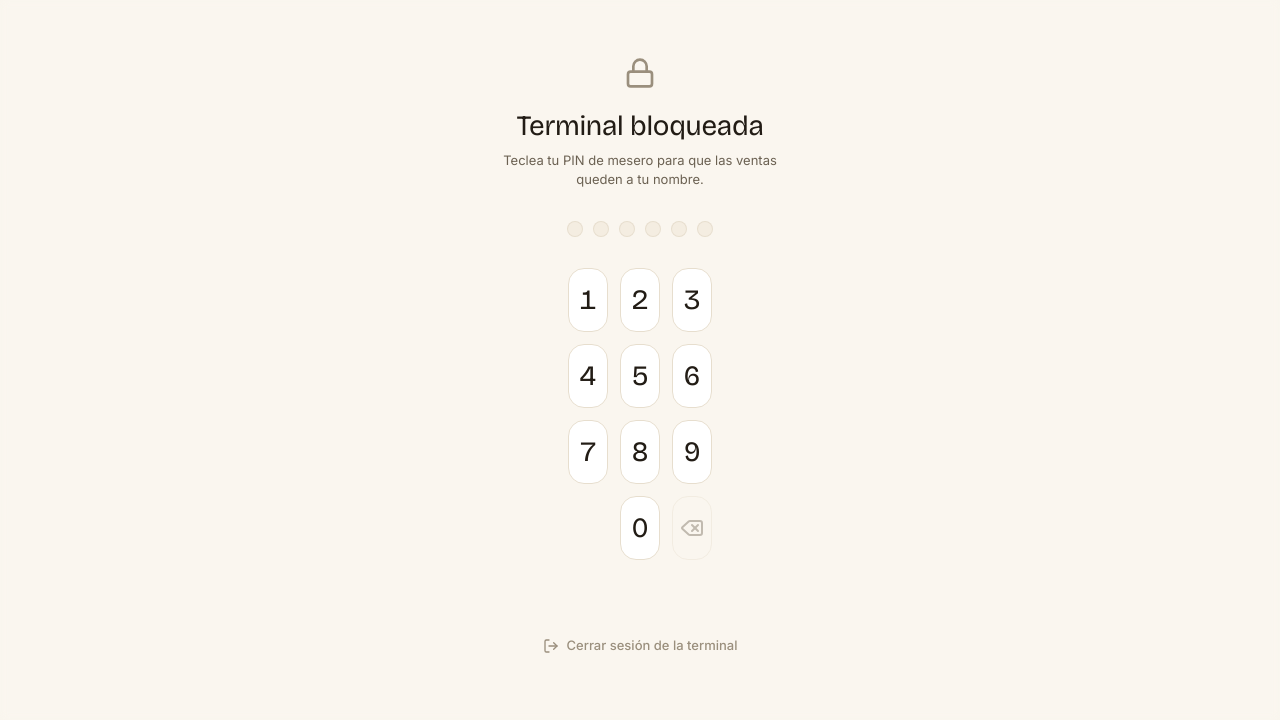
Test: BloqueoTerminal › un PIN inválido muestra el mensaje del backend y no deja mesero activo
This screenshot has width=1280, height=720.
What coordinates should you click on to do the following:
click the button "1"
I would click on:
 (588, 300)
Its box is [568, 268, 608, 332].
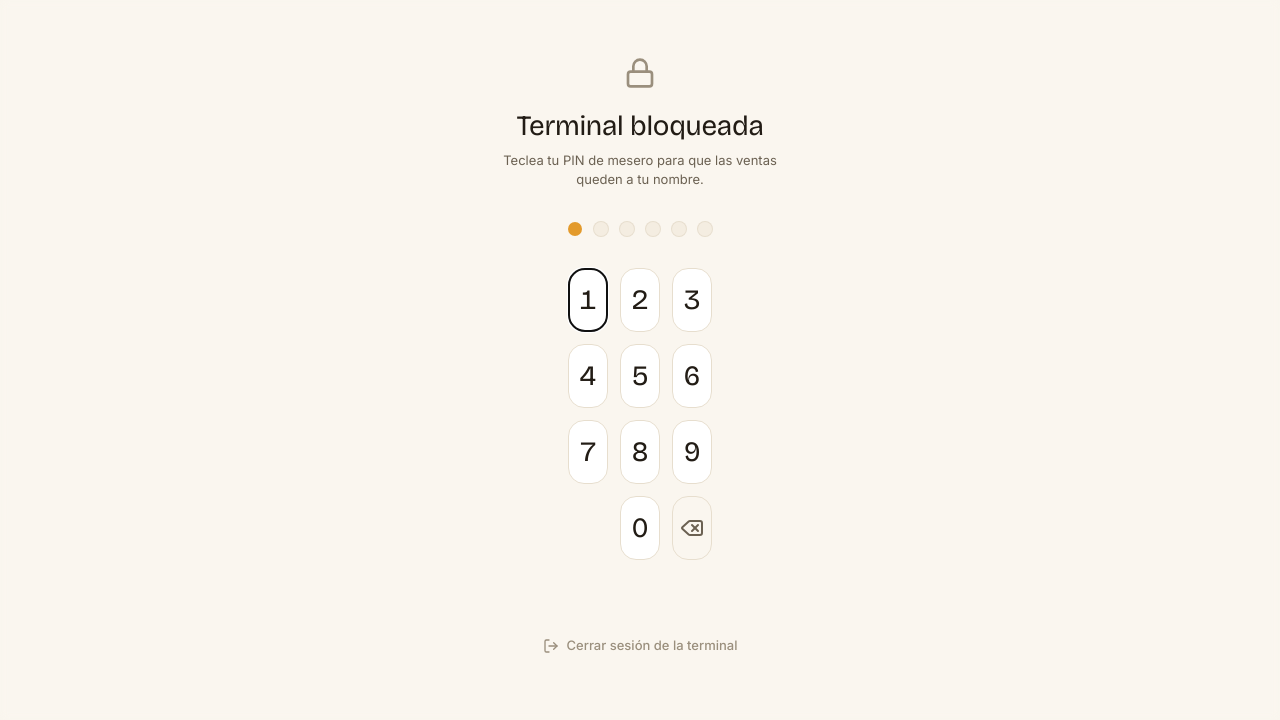
What coordinates should you click on to do the following:
click the button "1"
I would click on:
 (588, 300)
Its box is [568, 268, 608, 332].
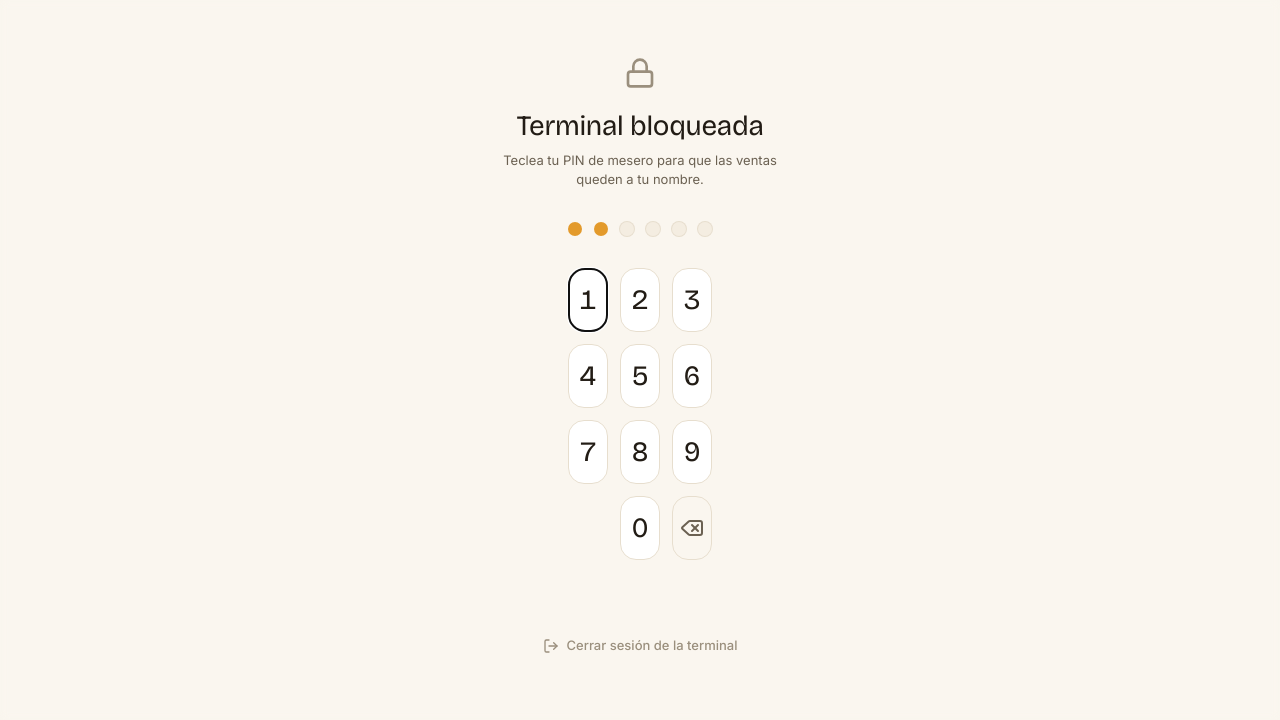
What coordinates should you click on to do the following:
click the button "1"
I would click on:
 (588, 300)
Its box is [568, 268, 608, 332].
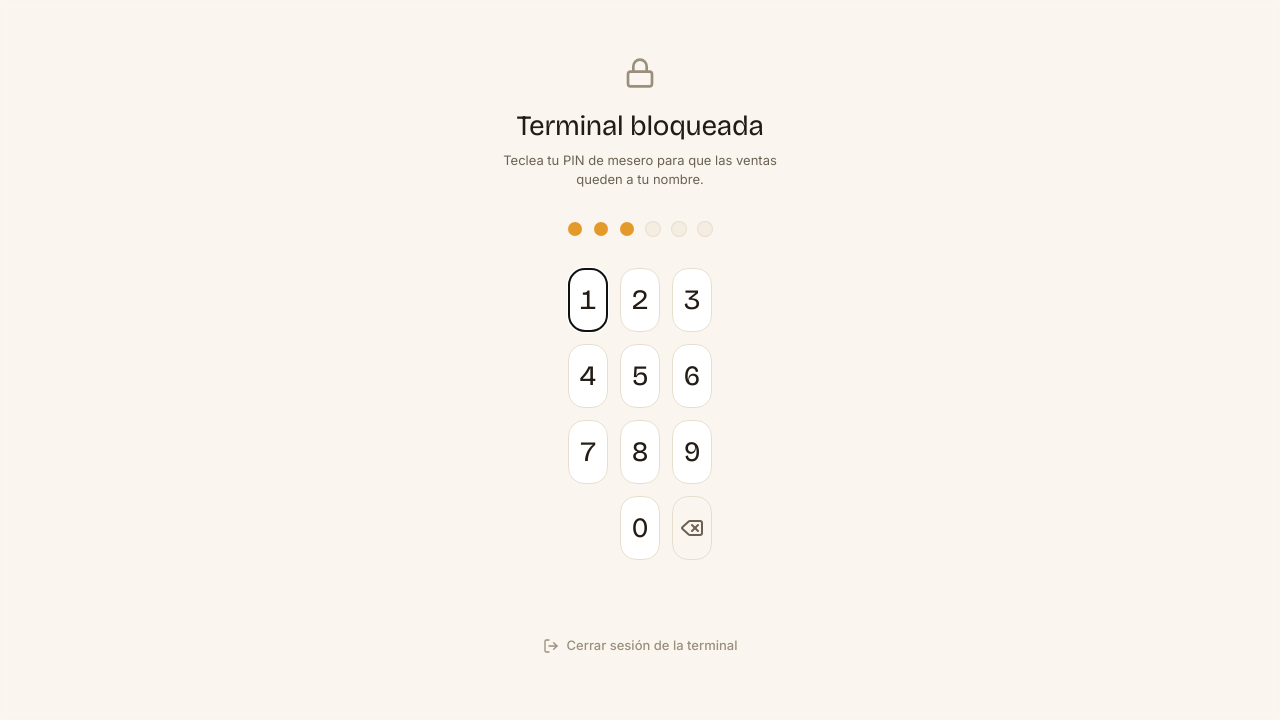
What coordinates should you click on to do the following:
click the button "1"
I would click on:
 (588, 300)
Its box is [568, 268, 608, 332].
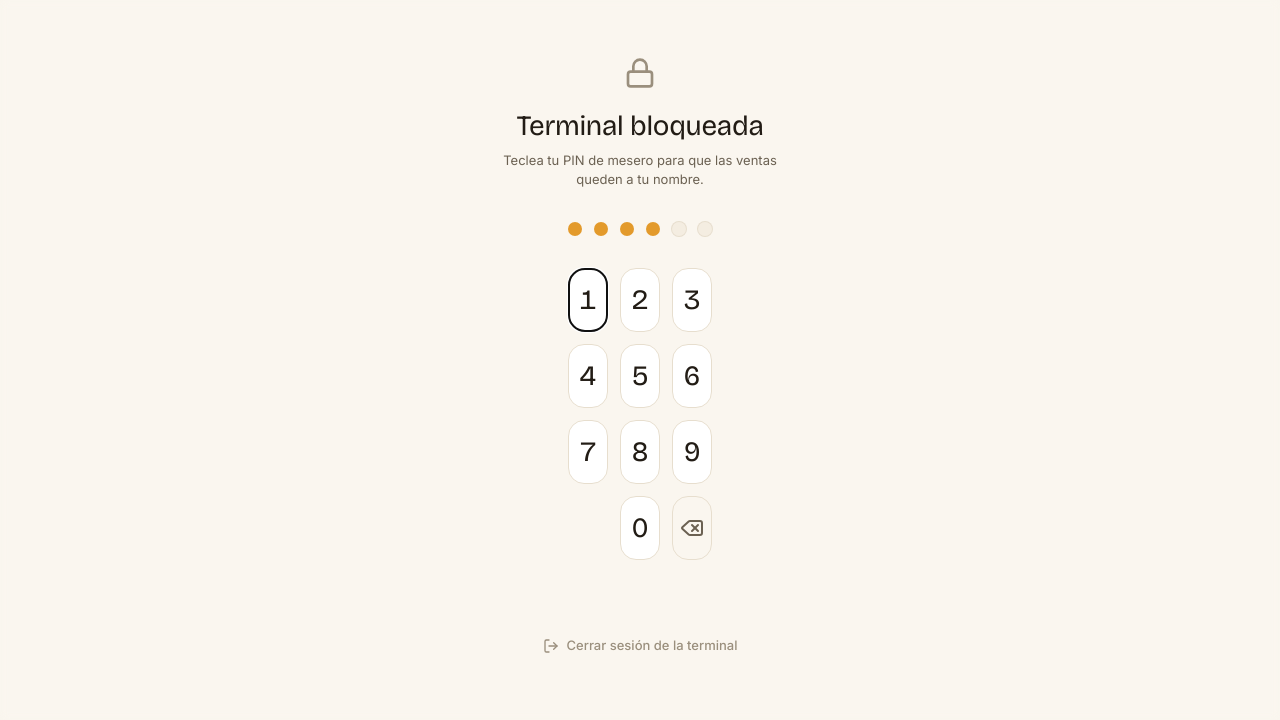
What coordinates should you click on to do the following:
click the button "1"
I would click on:
 (588, 300)
Its box is [568, 268, 608, 332].
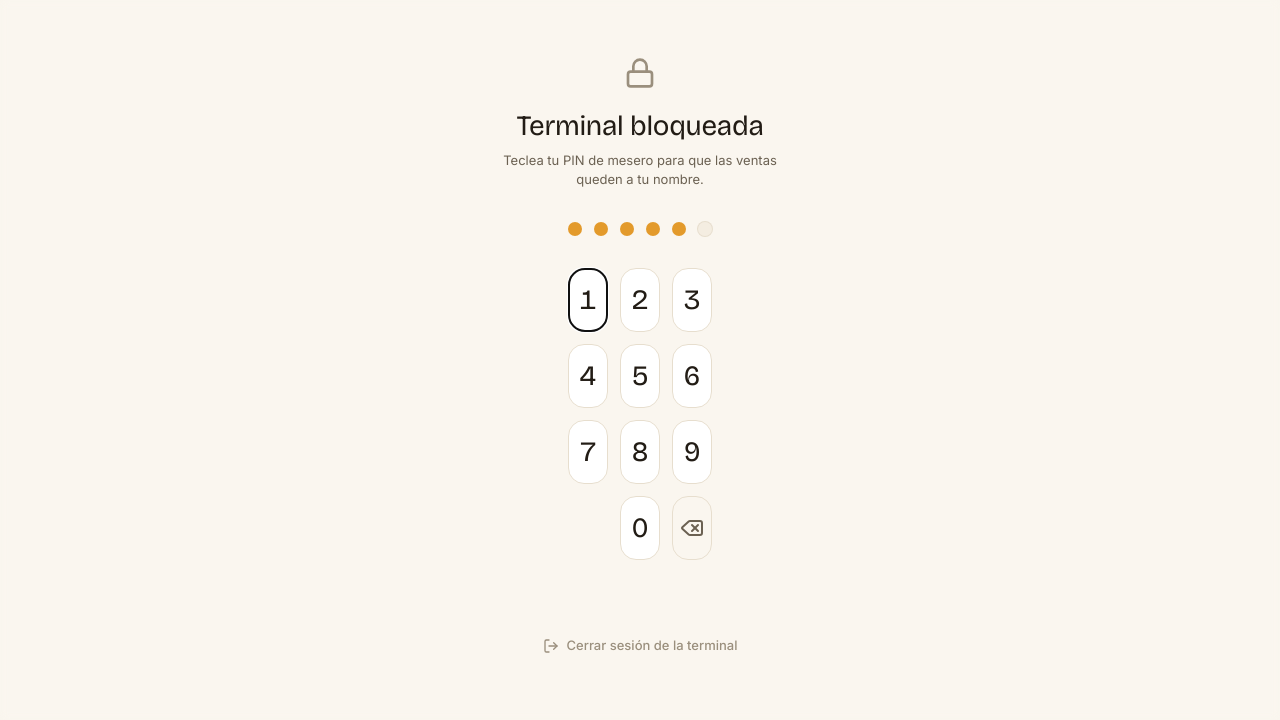
What coordinates should you click on to do the following:
click the button "1"
I would click on:
 (588, 300)
Its box is [568, 268, 608, 332].
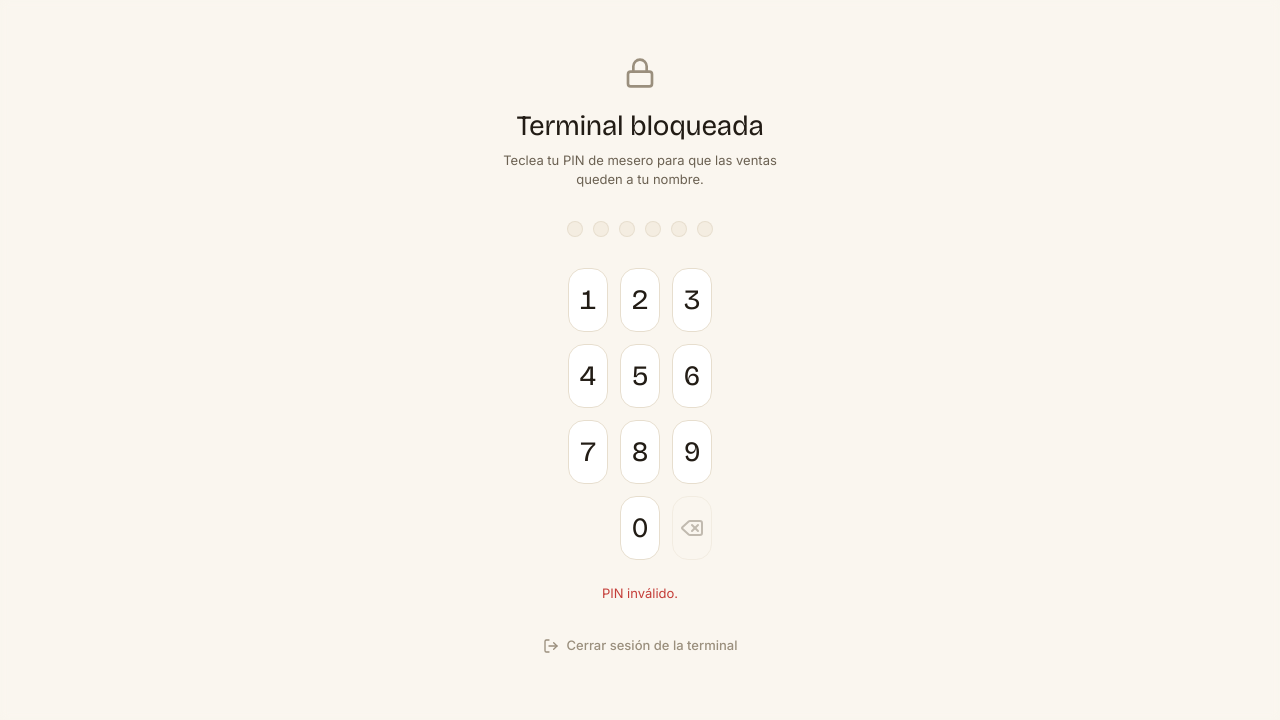
Now the message "PIN inválido." is shown, box [602, 584, 678, 604]
